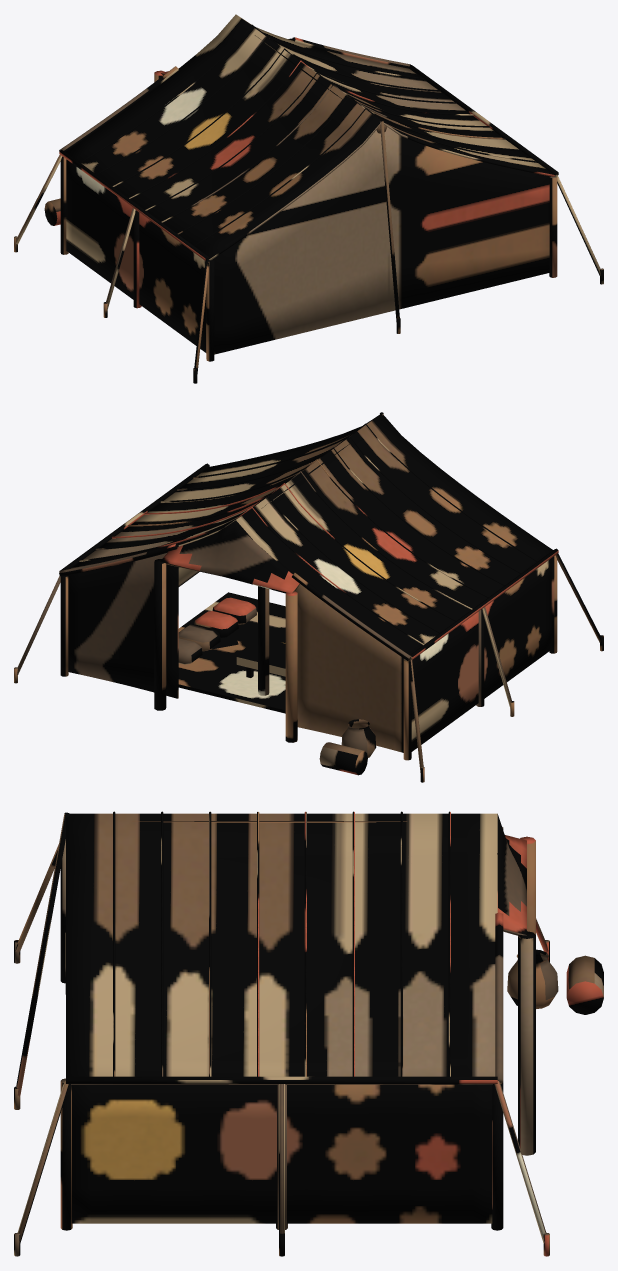
3 views of the same model, one above another, from view 1: azimuth 30°, elevation 25°; view 2: azimuth 150°, elevation 25°; view 3: azimuth 270°, elevation 25° (orthographic). The views are drawn at different scales.
Parts seen in each view (by area): view 1: garrison_part_0003, garrison_part_0002, garrison_part_0001; view 2: garrison_part_0002, garrison_part_0003, garrison_part_0001, garrison_part_0000, garrison_part_0004; view 3: garrison_part_0002, garrison_part_0003, garrison_part_0001, garrison_part_0004, garrison_part_0000.
Part boxes in pixels (left/top/right/bottom): garrison_part_0003: left=59, top=37, right=550, bottom=354; garrison_part_0002: left=16, top=14, right=600, bottom=373; garrison_part_0001: left=60, top=35, right=557, bottom=361; garrison_part_0002: left=17, top=412, right=601, bottom=772; garrison_part_0003: left=59, top=544, right=551, bottom=752; garrison_part_0001: left=60, top=440, right=557, bottom=760; garrison_part_0000: left=14, top=592, right=603, bottom=782; garrison_part_0004: left=178, top=597, right=376, bottom=775; garrison_part_0002: left=15, top=811, right=548, bottom=1243; garrison_part_0003: left=71, top=827, right=503, bottom=1223; garrison_part_0001: left=60, top=821, right=535, bottom=1230; garrison_part_0004: left=507, top=949, right=603, bottom=1014; garrison_part_0000: left=14, top=940, right=549, bottom=1256.
Size of the model in its own units: 1499 by 703 by 1264.
